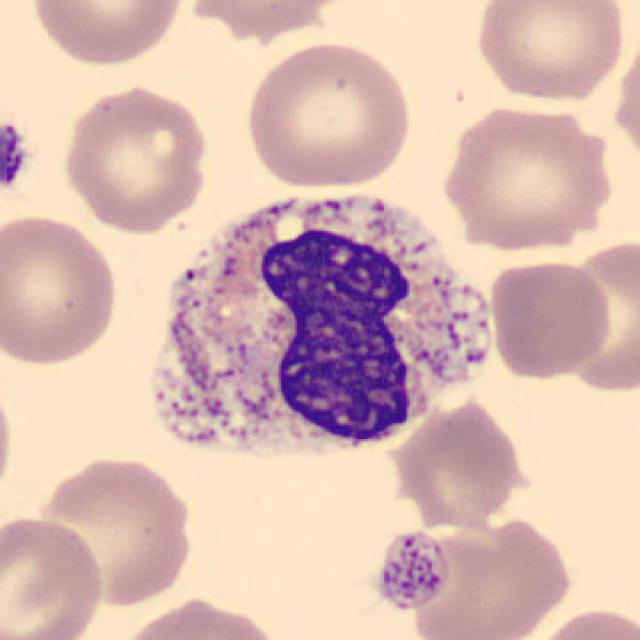Neutrophil: (134, 173, 502, 476)
Platelets: (370, 526, 453, 616), (0, 122, 30, 192)
RBC: (436, 101, 618, 252), (240, 37, 416, 192), (29, 451, 198, 610), (389, 509, 577, 640), (57, 80, 211, 234), (0, 210, 123, 368), (396, 395, 529, 534), (485, 254, 617, 382), (471, 0, 629, 104), (0, 511, 107, 640), (559, 236, 640, 399), (27, 0, 186, 69), (114, 592, 284, 640), (370, 526, 453, 616), (179, 0, 355, 42), (522, 603, 640, 640), (610, 28, 640, 173), (0, 365, 18, 518)
